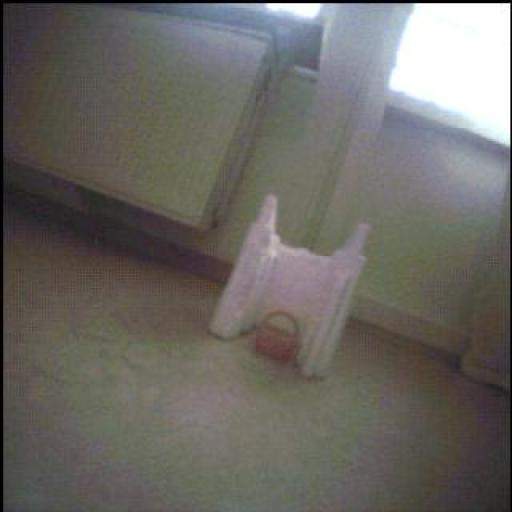Basket: (257, 312, 300, 363)
